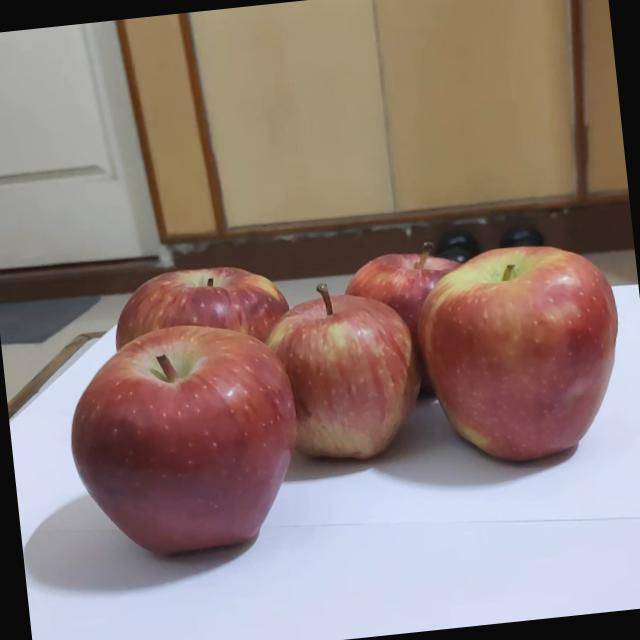apple: (90, 340, 346, 610), (62, 253, 276, 460), (408, 256, 614, 468), (251, 294, 434, 478), (291, 232, 446, 384)
